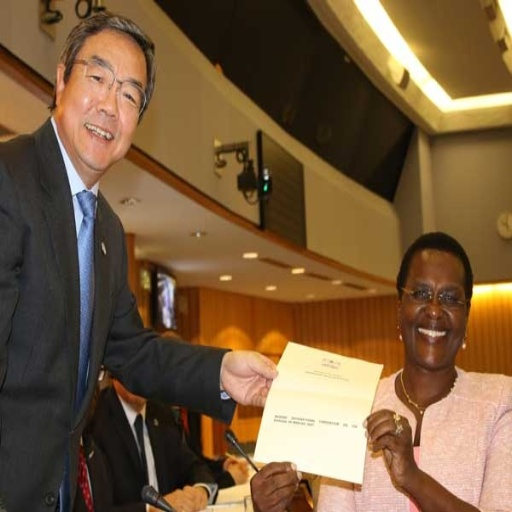hand: (360, 405, 418, 489), (220, 353, 277, 418), (248, 460, 307, 510), (151, 489, 192, 510), (182, 481, 208, 507)
